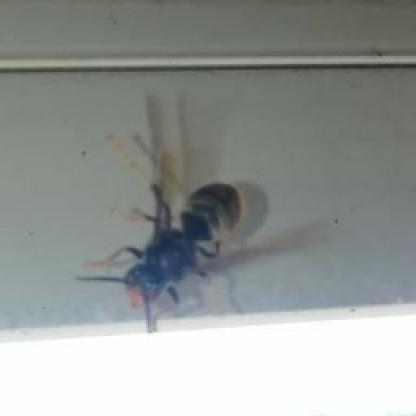Asian Hornet: (84, 172, 262, 332)
